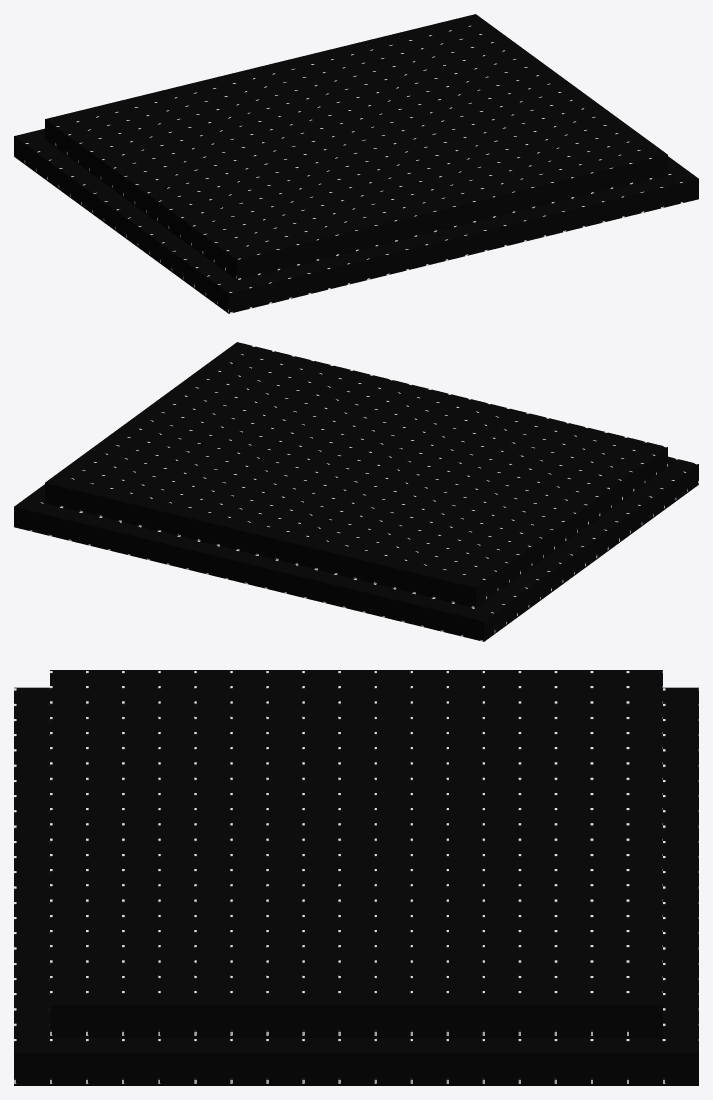
The model's file is lavagna_uvs.gltf.
The picture shows the model from 3 angles, top to bottom: view 1: azimuth 30°, elevation 25°; view 2: azimuth 150°, elevation 25°; view 3: azimuth 270°, elevation 25°; orthographic projection. The views are drawn at different scales.
Visible parts, largest first — view 1: Layer.2, Layer.1; view 2: Layer.2, Layer.1; view 3: Layer.2, Layer.1.
Boxes of the visible parts, x1,y1,x2,y2 form: Layer.2: (45, 14, 667, 280); Layer.1: (14, 128, 698, 313); Layer.2: (45, 342, 667, 608); Layer.1: (14, 456, 698, 641); Layer.2: (50, 670, 662, 1037); Layer.1: (14, 687, 698, 1085).
Bounding box in the file's own units: 24 × 2 × 19.
1 material, 1 textured.
